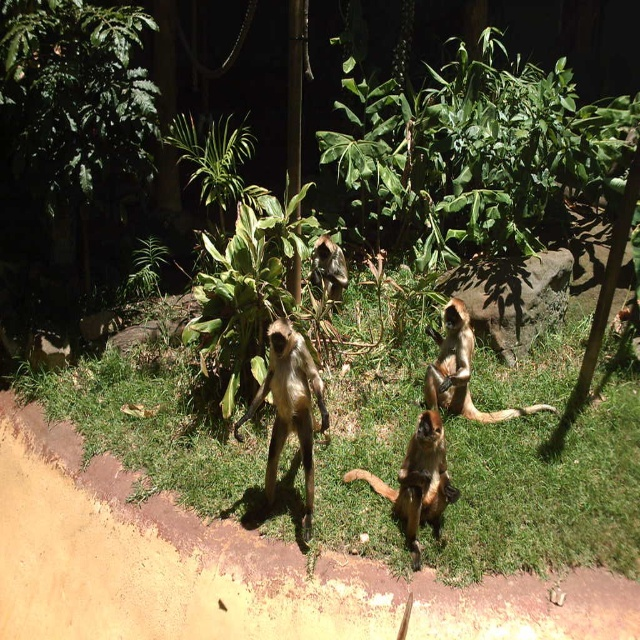Monkey: (342, 403, 469, 562), (426, 293, 564, 412), (250, 317, 332, 509), (306, 231, 349, 311)
